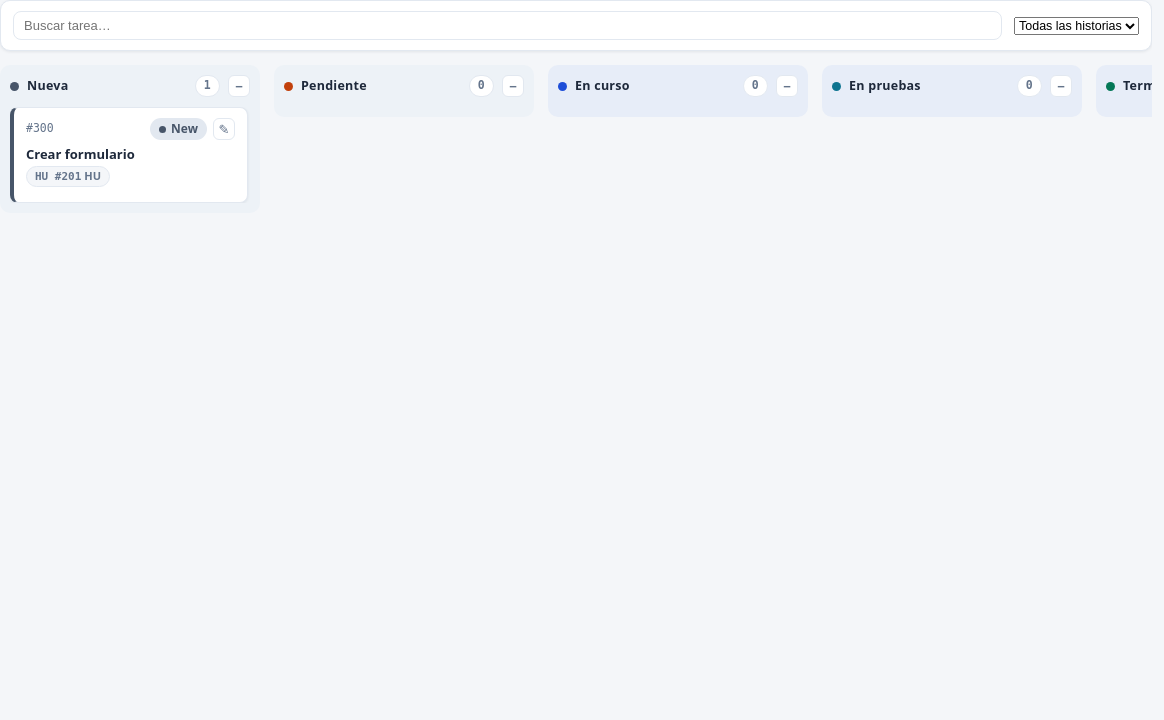
Test case: Edición QA de tareas › muestra los tags actuales de la tarea
The width and height of the screenshot is (1164, 720).
Click the button named "editar tarea #300 (QA)" at (224, 129), box 213,118 -> 235,140
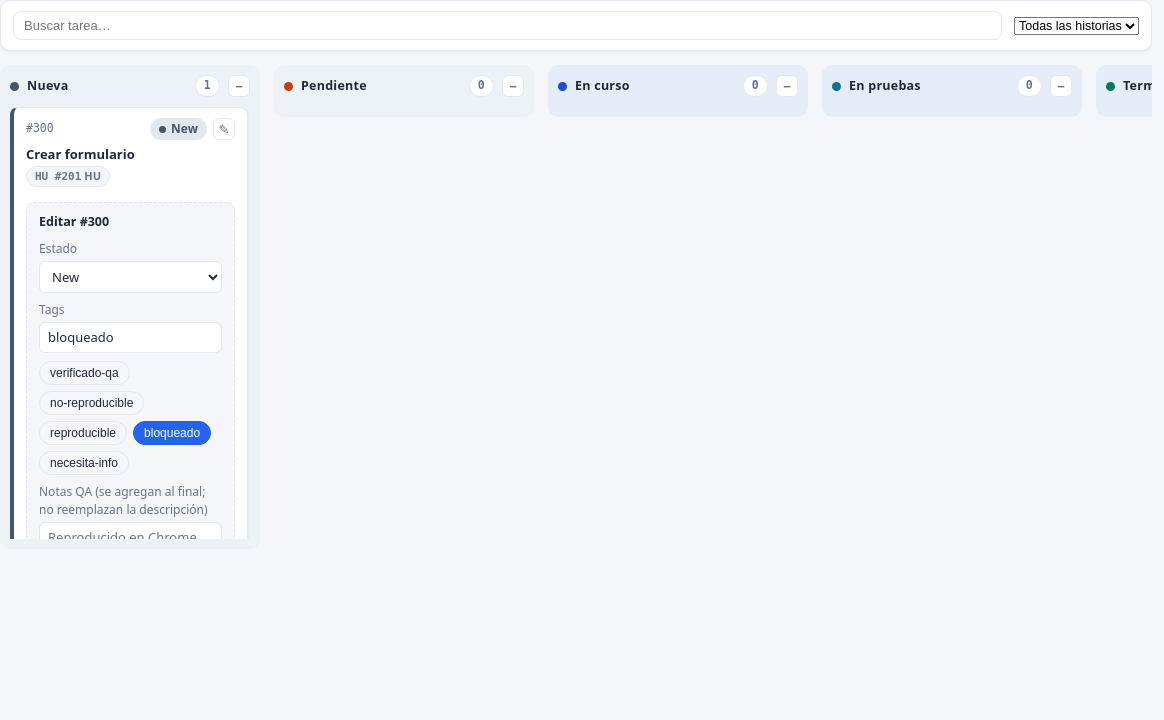
Now the field labelled "Tags" holds "bloqueado", box 39,322 -> 222,353
